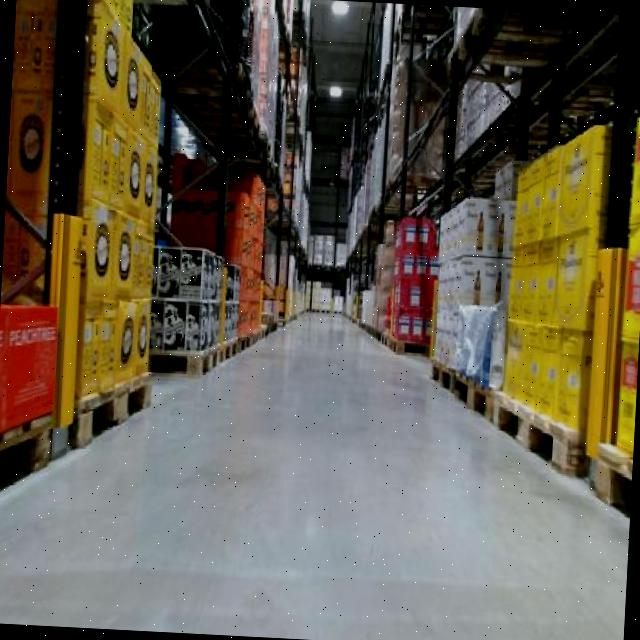pallet: (490, 386, 586, 488), (76, 368, 157, 459), (445, 365, 492, 429)
